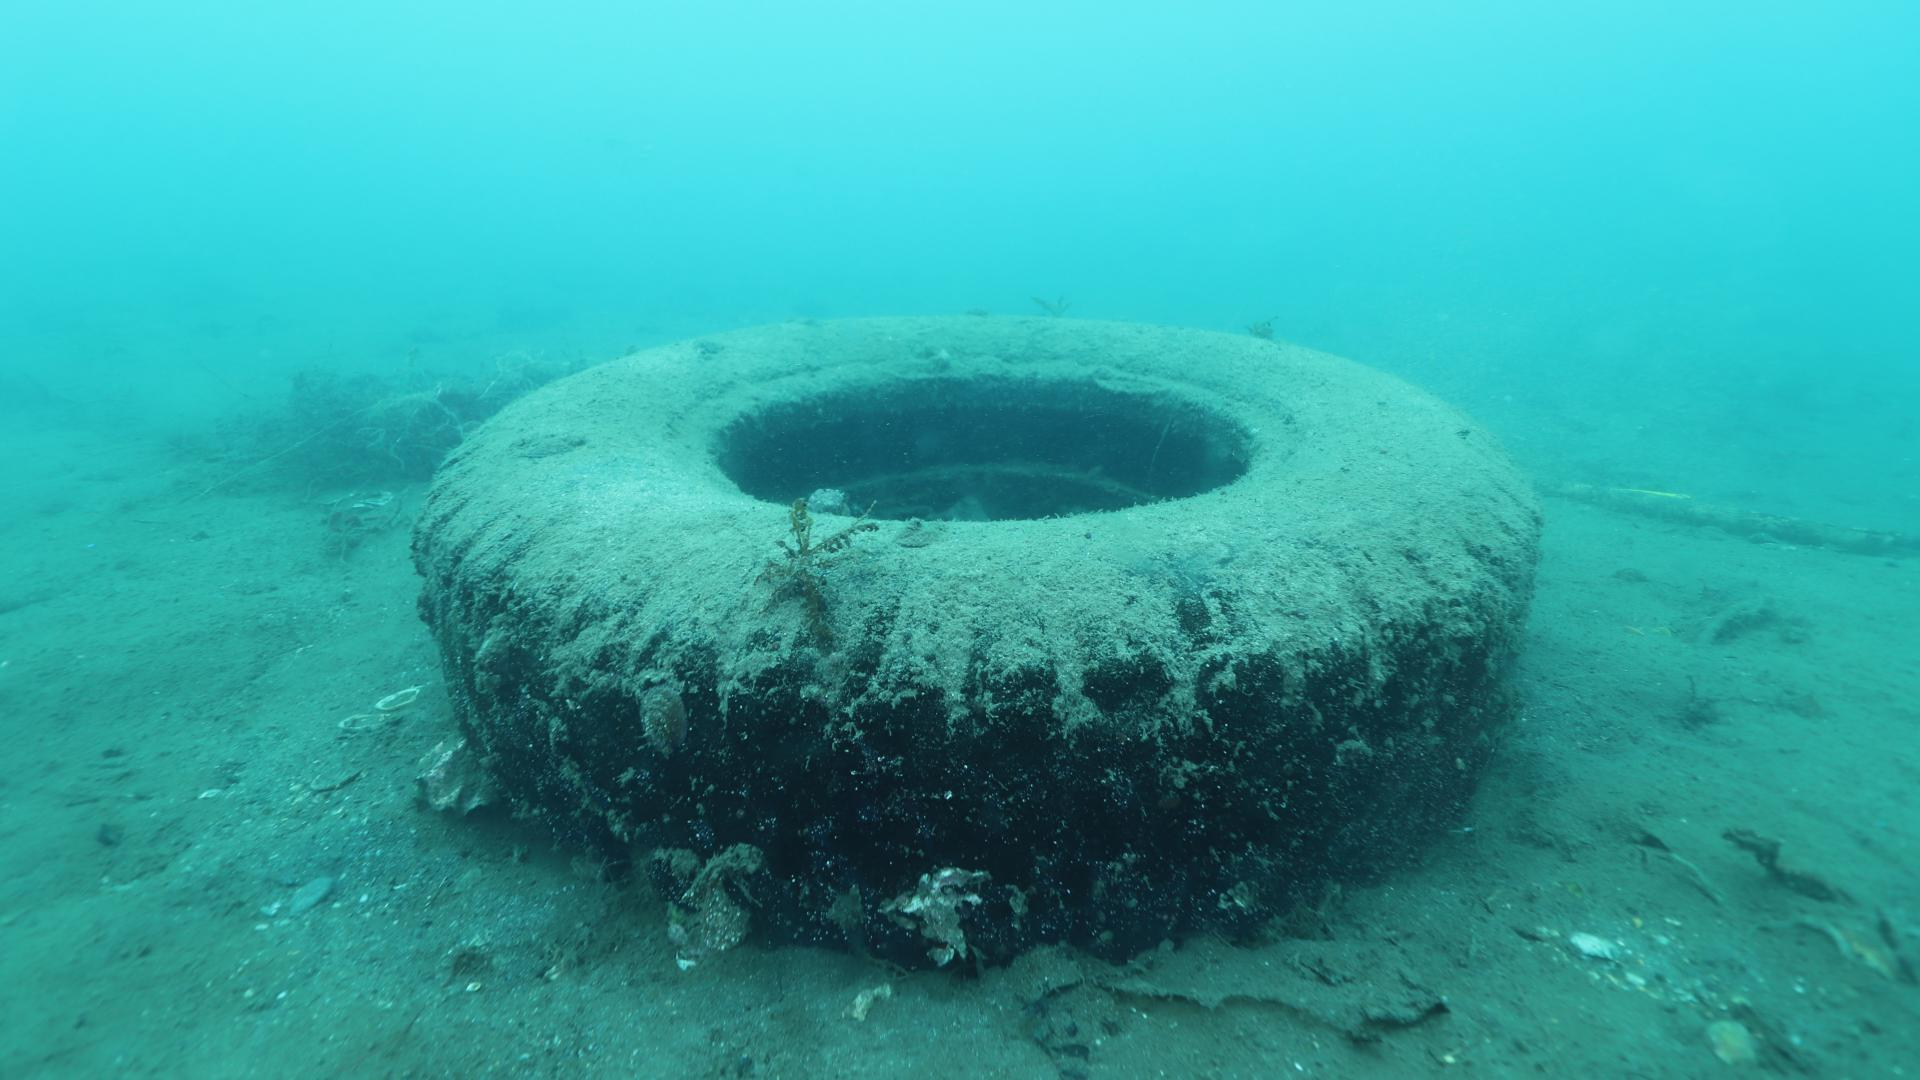tire: (422, 309, 1536, 898)
